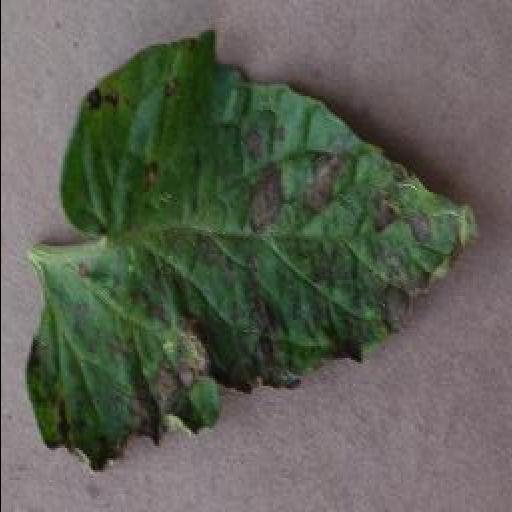disease_tomato: (24, 28, 478, 472)
